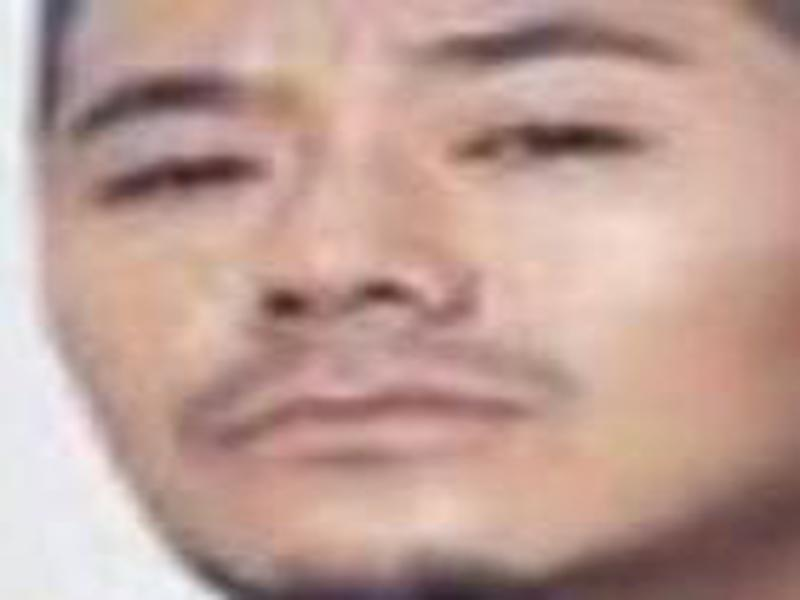without_mask: (44, 14, 800, 580)
